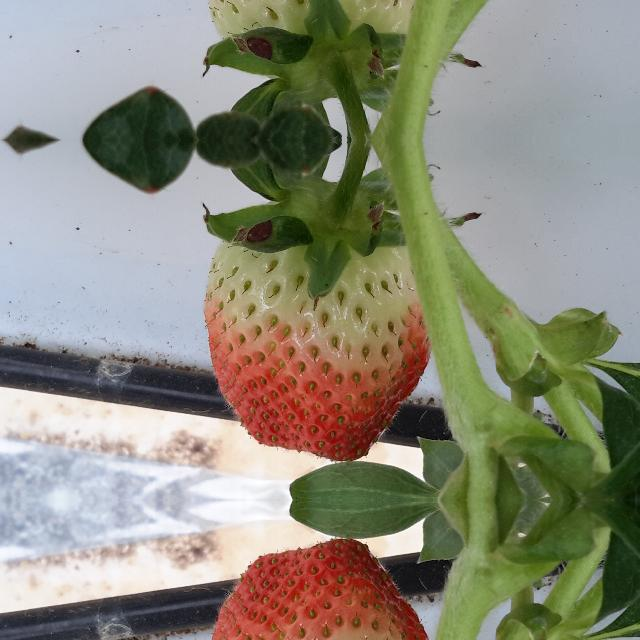Health_75: (204, 239, 430, 461), (203, 539, 430, 640)
